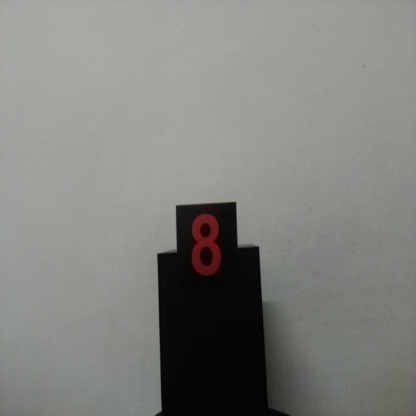id_8: (177, 206, 238, 293)
